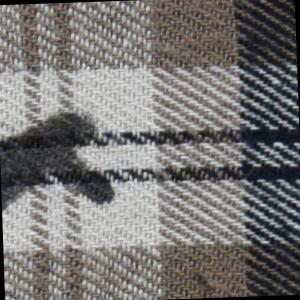Stain: (1, 102, 121, 220)
